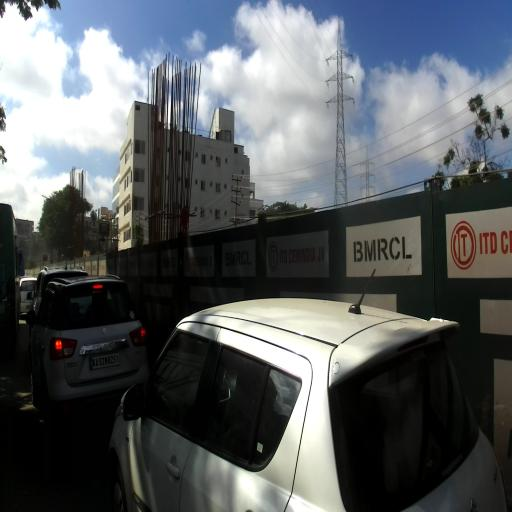street_light_0: (53, 197, 69, 206), (42, 195, 54, 206)
